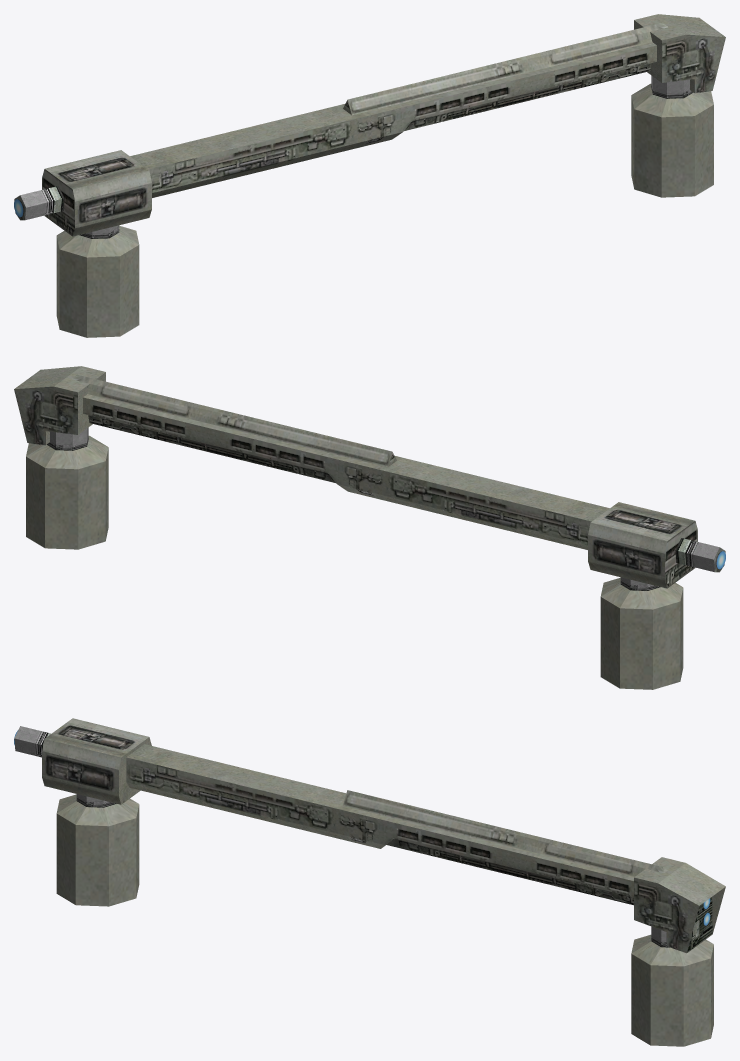
The model's file is thm_corl_power_connector_l1.fbx.
3 views of the same model, one above another, from view 1: azimuth 30°, elevation 25°; view 2: azimuth 150°, elevation 25°; view 3: azimuth 330°, elevation 25° (orthographic).
Parts seen in each view (by area): view 1: mesh_node; view 2: mesh_node; view 3: mesh_node.
Part boxes in pixels (left/top/right/bottom): mesh_node: left=14, top=14, right=725, bottom=337; mesh_node: left=14, top=366, right=725, bottom=689; mesh_node: left=14, top=718, right=725, bottom=1046.
Bounding box in the file's own units: 9.04 × 1.99 × 1.
